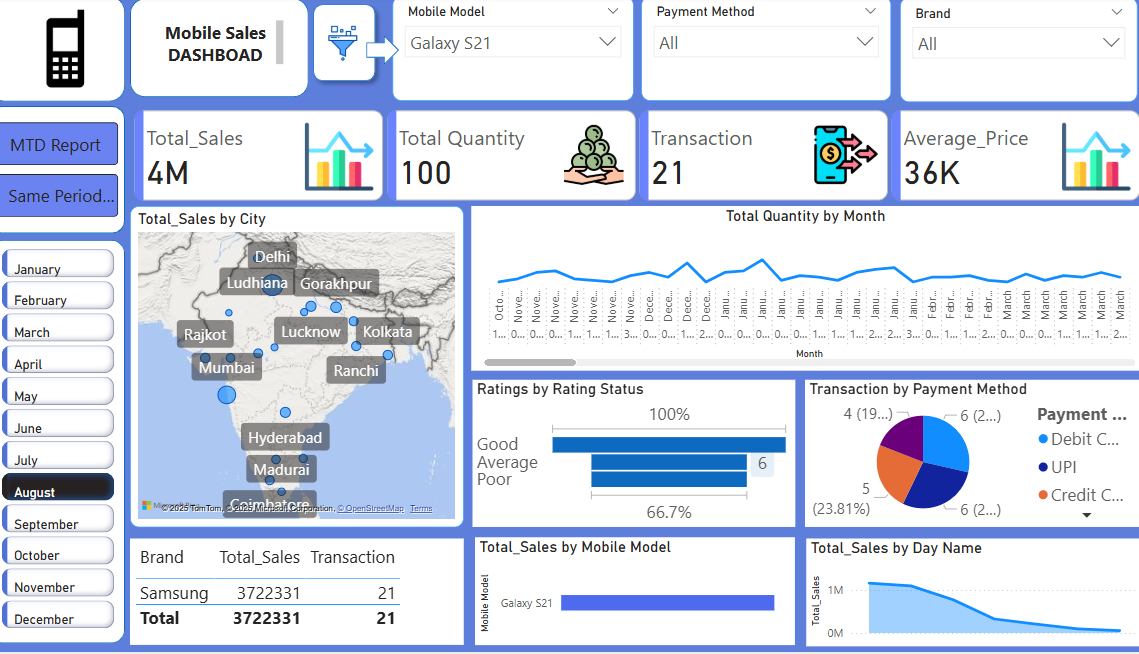

What the dashboard file says about the page in this screenshot:
{"tool":"powerbi","page":{"name":"Dashboard","canvas":[1280,720],"ordinal":1},"visuals":[{"type":"shape","box":[10,0,150,116.2],"z":0},{"type":"image","box":[0,0,186.6,115.3],"z":1000},{"type":"shape","box":[9.6,120.8,149.6,140],"z":2000},{"type":"shape","box":[9.6,267.6,149.6,443.2],"z":3000},{"type":"advancedSlicerVisual","fields":{"Values":["Custom_Calender.Date.Variation.Date Hierarchy.Month"]},"box":[19.2,273.1,133.1,433.6],"z":4000},{"type":"cardVisual","fields":{"Data":["Mobile_Sales.Total_Sales","Mobile_Sales.Total Quantity","Mobile_Sales.Transaction","Mobile_Sales.Average_Price"]},"box":[164.7,120.8,1115.6,109.8],"z":5000},{"type":"slicer","fields":{"Values":["Mobile_Sales.Mobile Model"]},"box":[452.8,0,264.8,115.3],"z":6000},{"type":"slicer","fields":{"Values":["Mobile_Sales.Payment Method"]},"box":[725.9,0,274.4,115.3],"z":7000},{"type":"slicer","fields":{"Values":["Mobile_Sales.Brand"]},"box":[1010,1.4,260.7,115.3],"z":8000},{"type":"shape","box":[356.2,0,86.2,102.5],"z":9000},{"type":"image","box":[238.8,27.5,318.8,48.8],"z":10000},{"type":"shape","box":[423.8,42.5,36.2,33.8],"z":11000},{"type":"shape","box":[164.7,2.7,196.2,108.4],"z":12000},{"type":"textbox","box":[186.2,22.5,151.2,58.8],"z":13000},{"type":"map","fields":{"Category":["Mobile_Sales.City"],"Size":["Mobile_Sales.Total_Sales"]},"box":[164.7,230.5,366.4,352.7],"z":14000},{"type":"lineChart","title":"Total Quantity by Month","fields":{"Y":["Mobile_Sales.Total Quantity"],"Category":["Mobile_Sales.Date","Custom_Calender.Date.Variation.Date Hierarchy.Month"]},"box":[539.3,230.5,734.1,181.1],"z":15000},{"type":"funnel","title":" Ratings by Rating Status","fields":{"Y":["CountNonNull(Mobile_Sales.Customer Ratings)"],"Category":["Mobile_Sales.Rating Status"]},"box":[540.7,421.3,354,161.9],"z":16000},{"type":"pieChart","fields":{"Category":["Mobile_Sales.Payment Method"],"Y":["Mobile_Sales.Transaction"]},"box":[905.7,421.3,367.8,161.9],"z":17000},{"type":"clusteredBarChart","fields":{"Y":["Mobile_Sales.Total_Sales"],"Category":["Mobile_Sales.Mobile Model"]},"box":[543.4,594.2,351.3,118],"z":18000},{"type":"areaChart","fields":{"Y":["Mobile_Sales.Total_Sales"],"Category":["Custom_Calender.Day Name"]},"box":[907,595.5,367.8,118],"z":19000},{"type":"tableEx","fields":{"Values":["Mobile_Sales.Brand","Mobile_Sales.Total_Sales","Mobile_Sales.Transaction"]},"box":[164.7,595.5,366.4,116.6],"z":20000},{"type":"pageNavigator","box":[13.7,138.6,138.6,105.7],"z":21000}]}

Visuals, with their boxes in screenshot pixels (x1, y1, x2, y2), scaled from the page's 1280x720 canvas onto the 1139x654 screenshot:
shape: [left=9, top=0, right=142, bottom=106]
image: [left=0, top=0, right=166, bottom=105]
shape: [left=9, top=110, right=142, bottom=237]
shape: [left=9, top=243, right=142, bottom=646]
advancedSlicerVisual - Custom_Calender.Date.Variation.Date Hierarchy.Month: [left=17, top=248, right=136, bottom=642]
cardVisual - Mobile_Sales.Total_Sales x Mobile_Sales.Total Quantity: [left=147, top=110, right=1138, bottom=209]
slicer - Mobile_Sales.Mobile Model: [left=403, top=0, right=639, bottom=105]
slicer - Mobile_Sales.Payment Method: [left=646, top=0, right=890, bottom=105]
slicer - Mobile_Sales.Brand: [left=899, top=1, right=1131, bottom=106]
shape: [left=317, top=0, right=394, bottom=93]
image: [left=212, top=25, right=496, bottom=69]
shape: [left=377, top=39, right=409, bottom=69]
shape: [left=147, top=2, right=321, bottom=101]
textbox: [left=166, top=20, right=300, bottom=74]
map - Mobile_Sales.City x Mobile_Sales.Total_Sales: [left=147, top=209, right=473, bottom=530]
"Total Quantity by Month" lineChart: [left=480, top=209, right=1133, bottom=374]
" Ratings by Rating Status" funnel: [left=481, top=383, right=796, bottom=530]
pieChart - Mobile_Sales.Payment Method x Mobile_Sales.Transaction: [left=806, top=383, right=1133, bottom=530]
clusteredBarChart - Mobile_Sales.Total_Sales x Mobile_Sales.Mobile Model: [left=484, top=540, right=796, bottom=647]
areaChart - Mobile_Sales.Total_Sales x Custom_Calender.Day Name: [left=807, top=541, right=1134, bottom=648]
tableEx - Mobile_Sales.Brand x Mobile_Sales.Total_Sales: [left=147, top=541, right=473, bottom=647]
pageNavigator: [left=12, top=126, right=136, bottom=222]
